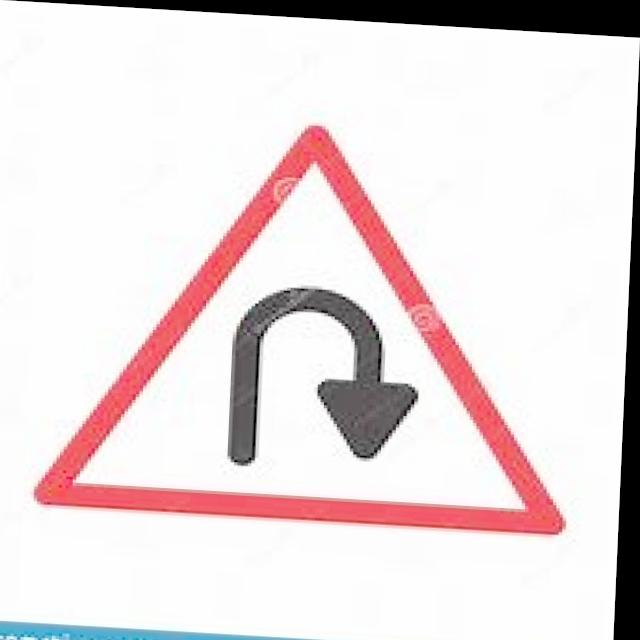RIGHT_HAIR_PIN_BEND: (37, 114, 600, 535)
